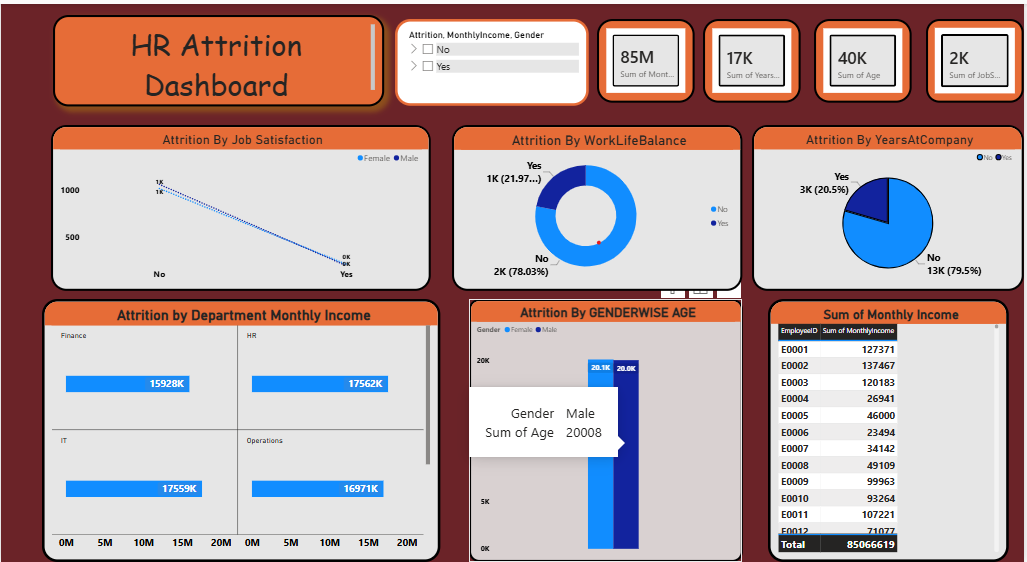

This screenshot's page, from the dashboard's own definition file:
{"tool":"powerbi","page":{"name":"HR Attrition Dashboard","canvas":[1980,1080],"ordinal":0},"visuals":[{"type":"clusteredColumnChart","title":"Attrition By GENDERWISE AGE","fields":{"Series":["HR_Attrition.Gender"],"Y":["Sum(HR_Attrition.Age)"]},"box":[904.8,570.6,530.1,508.8],"z":0},{"type":"tableEx","title":"Sum of  Monthly Income","fields":{"Values":["HR_Attrition.EmployeeID","Sum(HR_Attrition.MonthlyIncome)"]},"box":[1483.9,570.6,466.3,508.8],"z":1000},{"type":"clusteredBarChart","title":"Attrition by Department Monthly Income","fields":{"Rows":["HR_Attrition.Department"],"Y":["Sum(HR_Attrition.MonthlyIncome)"]},"box":[78.8,570.6,770.7,508.8],"z":2000},{"type":"pieChart","title":"Attrition By YearsAtCompany","fields":{"Category":["HR_Attrition.Attrition"],"Y":["Sum(HR_Attrition.YearsAtCompany)"]},"box":[1454.1,234.2,525.9,321.5],"z":3000},{"type":"donutChart","title":"Attrition By WorkLifeBalance","fields":{"Category":["HR_Attrition.Attrition"],"Y":["Sum(HR_Attrition.WorkLifeBalance)"]},"box":[872.9,234.2,562.1,321.5],"z":4000},{"type":"lineChart","title":"Attrition By Job Satisfaction","fields":{"Category":["HR_Attrition.Attrition"],"Series":["HR_Attrition.Gender"],"Y":["Sum(HR_Attrition.JobSatisfaction)"]},"box":[95.8,234.2,734.5,321.5],"z":5000},{"type":"cardVisual","fields":{"Data":["Sum(HR_Attrition.YearsAtCompany)"]},"box":[1358.3,29.8,189.5,161.8],"z":6000},{"type":"cardVisual","fields":{"Data":["Sum(HR_Attrition.Age)"]},"box":[1573.4,29.8,189.5,161.8],"z":7000},{"type":"cardVisual","fields":{"Data":["Sum(HR_Attrition.JobSatisfaction)"]},"box":[1790.5,29.8,189.5,161.8],"z":8000},{"type":"cardVisual","fields":{"Data":["Sum(HR_Attrition.MonthlyIncome)"]},"box":[1153.9,29.8,189.5,161.8],"z":9000},{"type":"slicer","fields":{"Values":["HR_Attrition.Attrition","HR_Attrition.MonthlyIncome","HR_Attrition.Gender"]},"box":[762.2,29.8,374.7,168.2],"z":10000},{"type":"textbox","box":[100.1,21.3,640.8,176.7],"z":11000}]}

Visuals, with their boxes in screenshot pixels (x1, y1, x2, y2), scaled from the page's 1980x1080 canvas onto the 1027x562 screenshot:
"Attrition By GENDERWISE AGE" clusteredColumnChart: {"x1": 469, "y1": 297, "x2": 744, "y2": 561}
"Sum of  Monthly Income" tableEx: {"x1": 770, "y1": 297, "x2": 1012, "y2": 561}
"Attrition by Department Monthly Income" clusteredBarChart: {"x1": 41, "y1": 297, "x2": 441, "y2": 561}
"Attrition By YearsAtCompany" pieChart: {"x1": 754, "y1": 122, "x2": 1026, "y2": 289}
"Attrition By WorkLifeBalance" donutChart: {"x1": 453, "y1": 122, "x2": 744, "y2": 289}
"Attrition By Job Satisfaction" lineChart: {"x1": 50, "y1": 122, "x2": 431, "y2": 289}
cardVisual - Sum(HR_Attrition.YearsAtCompany): {"x1": 705, "y1": 16, "x2": 803, "y2": 100}
cardVisual - Sum(HR_Attrition.Age): {"x1": 816, "y1": 16, "x2": 914, "y2": 100}
cardVisual - Sum(HR_Attrition.JobSatisfaction): {"x1": 929, "y1": 16, "x2": 1026, "y2": 100}
cardVisual - Sum(HR_Attrition.MonthlyIncome): {"x1": 599, "y1": 16, "x2": 697, "y2": 100}
slicer - HR_Attrition.Attrition x HR_Attrition.MonthlyIncome: {"x1": 395, "y1": 16, "x2": 590, "y2": 103}
textbox: {"x1": 52, "y1": 11, "x2": 384, "y2": 103}
